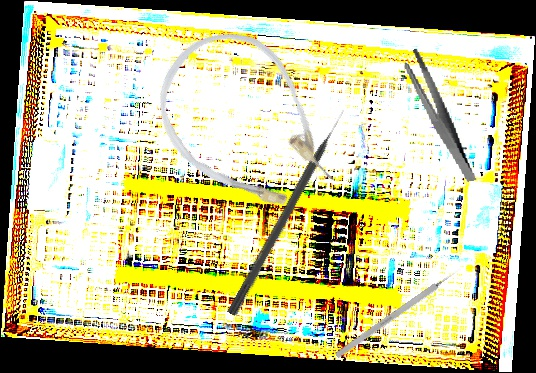Cannula: (129, 5, 364, 247)
Dressing Forceps: (401, 42, 477, 190)
Hook Surgical: (334, 266, 463, 359)
Pusher: (226, 107, 351, 318)
